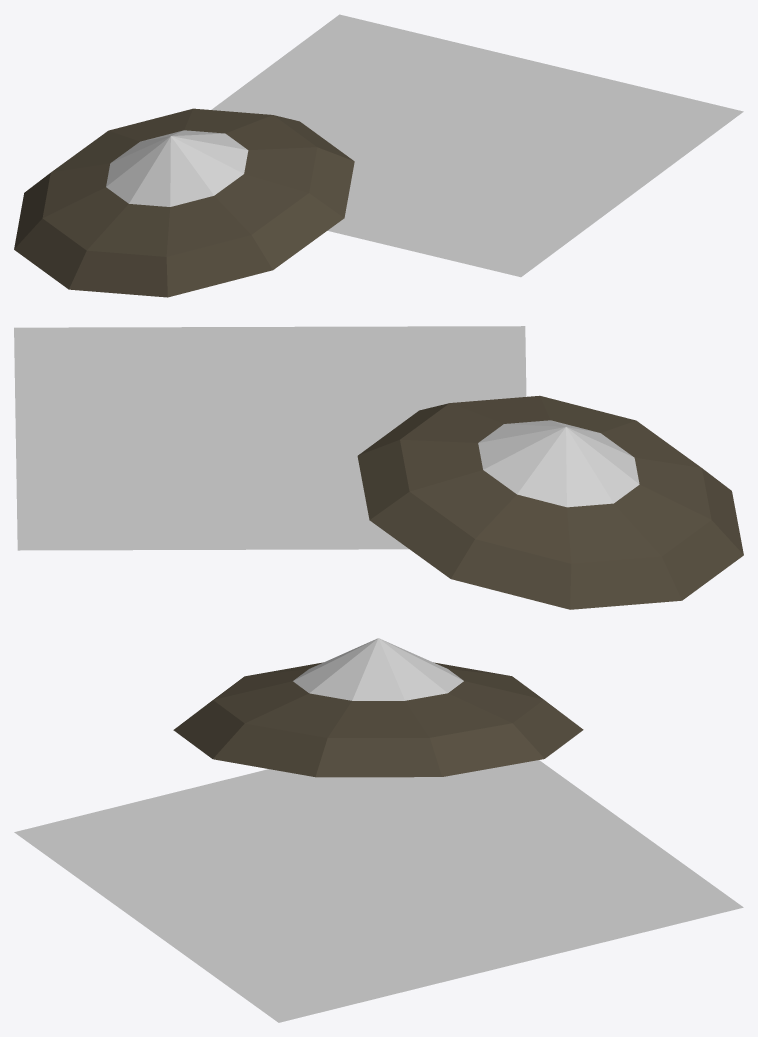
File: ITAM_PROT_TOTAL_01.OBJ
3 views of the same model, one above another, from view 1: azimuth 30°, elevation 25°; view 2: azimuth 150°, elevation 25°; view 3: azimuth 270°, elevation 25° (orthographic). The views are drawn at different scales.
Visible parts, largest first — view 1: ITAM_PROT_TOTAL_01; view 2: ITAM_PROT_TOTAL_01; view 3: ITAM_PROT_TOTAL_01.
Boxes of the visible parts, x1,y1,x2,y2 form: ITAM_PROT_TOTAL_01: (14,14,743,297); ITAM_PROT_TOTAL_01: (14,326,743,609); ITAM_PROT_TOTAL_01: (14,638,743,1022).
Size of the model in its own units: 0.1834 by 0.027 by 0.1515.
